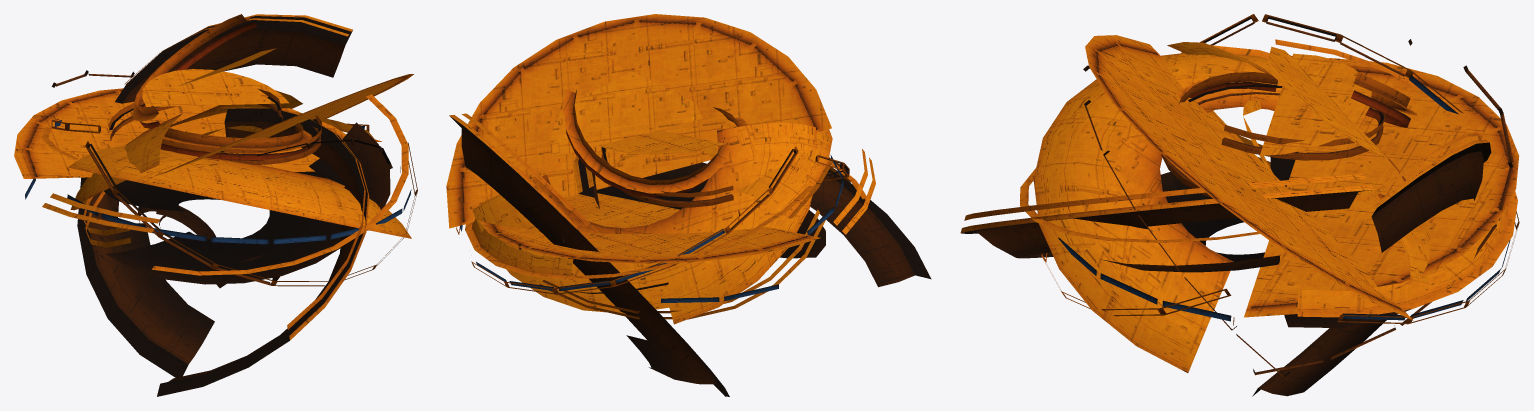
The model's file is MonsterB_Die2.obj.
3 renders of one model, left to right at view 1: azimuth 30°, elevation 25°; view 2: azimuth 150°, elevation 25°; view 3: azimuth 270°, elevation 25°, orthographic. The views are drawn at different scales.
Visible parts, largest first — view 1: Sphere001; view 2: Sphere001; view 3: Sphere001.
Boxes of the visible parts, x1,y1,x2,y2 form: Sphere001: (14,14,417,396); Sphere001: (446,14,931,396); Sphere001: (960,14,1519,396).
Size of the model in its own units: 217 by 176 by 229.
Materials: 1 (1 with a texture image).
